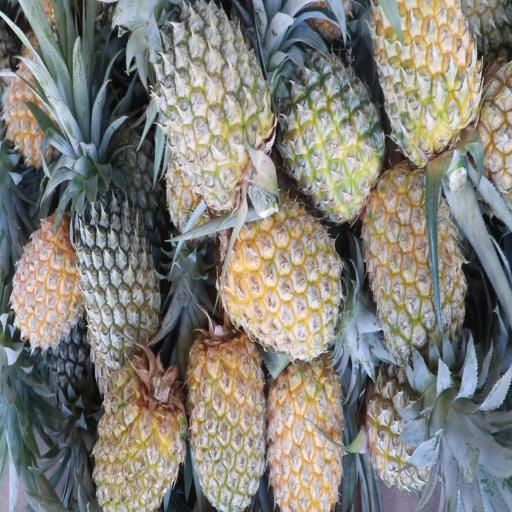------------------------------: (161, 12, 277, 195), (283, 52, 380, 216), (372, 362, 458, 486)
Pineapple - v8 v1: (225, 194, 343, 354), (366, 172, 468, 352), (378, 0, 487, 154), (188, 327, 266, 507), (96, 361, 186, 512), (269, 346, 343, 512), (15, 213, 89, 347), (7, 40, 81, 160)
